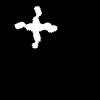single_crochet: (15, 6, 56, 47)
